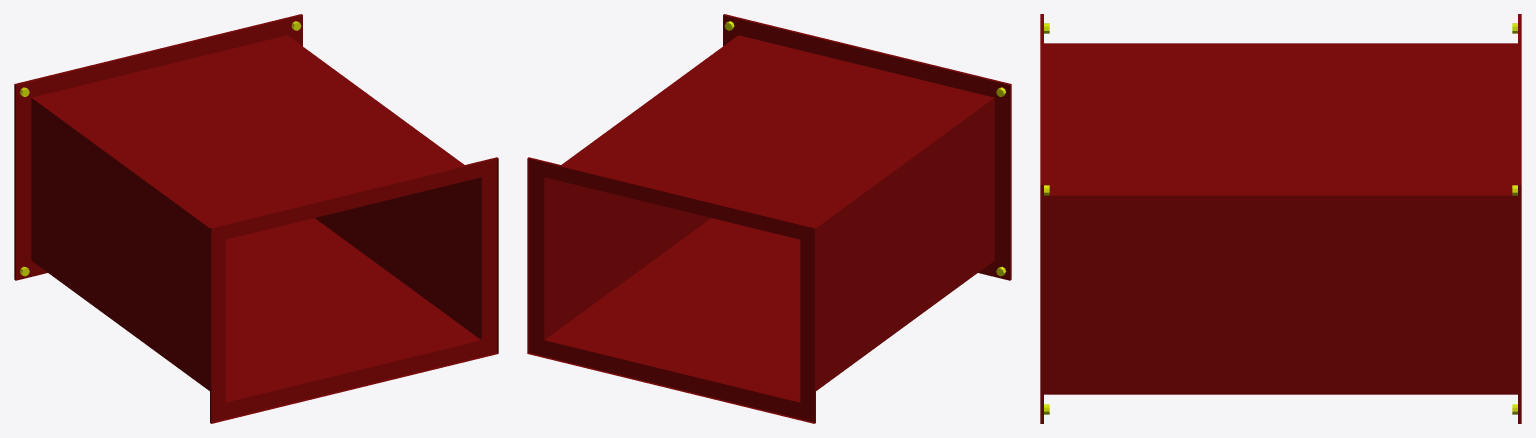
File: fbx_Pipe_1_V1.0.fbx
3 renders of one model, left to right at view 1: azimuth 30°, elevation 25°; view 2: azimuth 150°, elevation 25°; view 3: azimuth 270°, elevation 25°, orthographic. The views are drawn at different scales.
Visible parts, largest first — view 1: pCube162; view 2: pCube162; view 3: pCube162.
Part boxes in pixels (x1,y1,x2,y2): pCube162: (14,14,498,423); pCube162: (527,14,1011,423); pCube162: (1040,14,1521,423).
Bounding box in the file's own units: 148 × 96 × 175.
